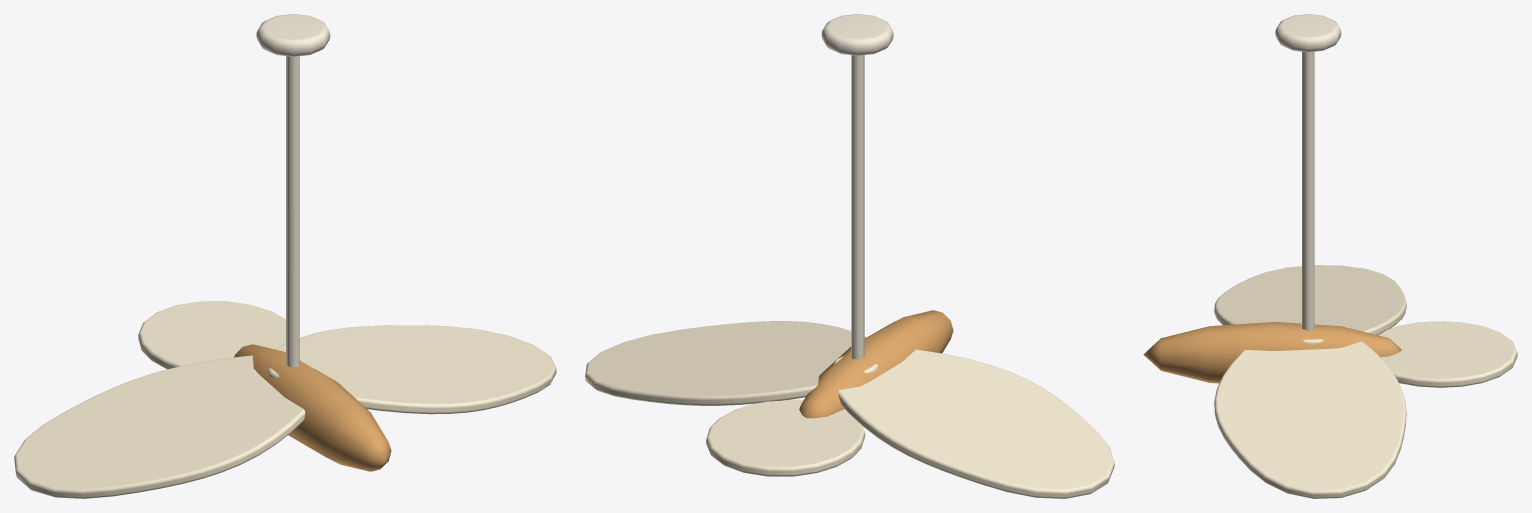
The model's file is paper_ornithopter.glb.
The picture shows the model from 3 angles, left to right: view 1: azimuth 30°, elevation 25°; view 2: azimuth 150°, elevation 25°; view 3: azimuth 270°, elevation 25°; orthographic projection. The views are drawn at different scales.
Visible parts, largest first — view 1: paper_ornithopter_mesh; view 2: paper_ornithopter_mesh; view 3: paper_ornithopter_mesh.
Boxes of the visible parts, left/top/right/bottom form: paper_ornithopter_mesh: left=14, top=14, right=556, bottom=498; paper_ornithopter_mesh: left=585, top=14, right=1114, bottom=498; paper_ornithopter_mesh: left=1143, top=14, right=1517, bottom=498.
Bounding box in the file's own units: 0.653 × 0.4827 × 0.4539.
